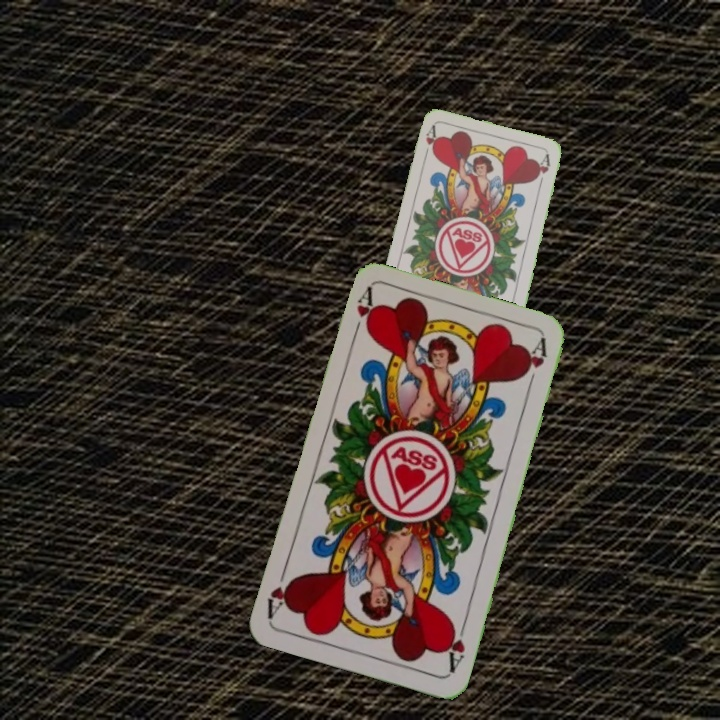HA: (348, 285, 378, 343), (441, 617, 470, 675), (420, 123, 438, 163)
